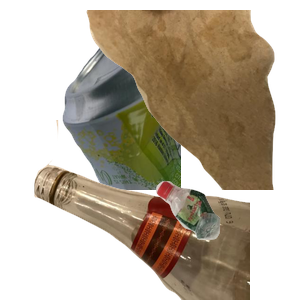glass: (31, 120, 271, 300)
metal: (60, 10, 300, 190)
plastic: (153, 178, 300, 300)
trash: (84, 10, 300, 190)
